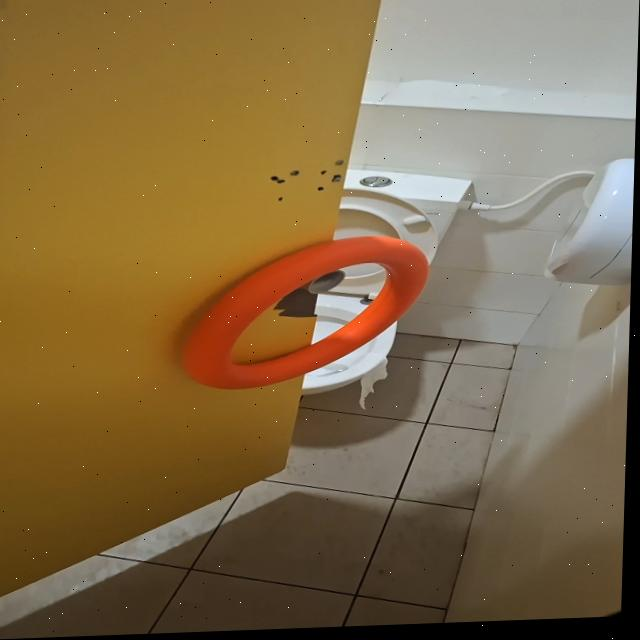note: (182, 235, 435, 395)
